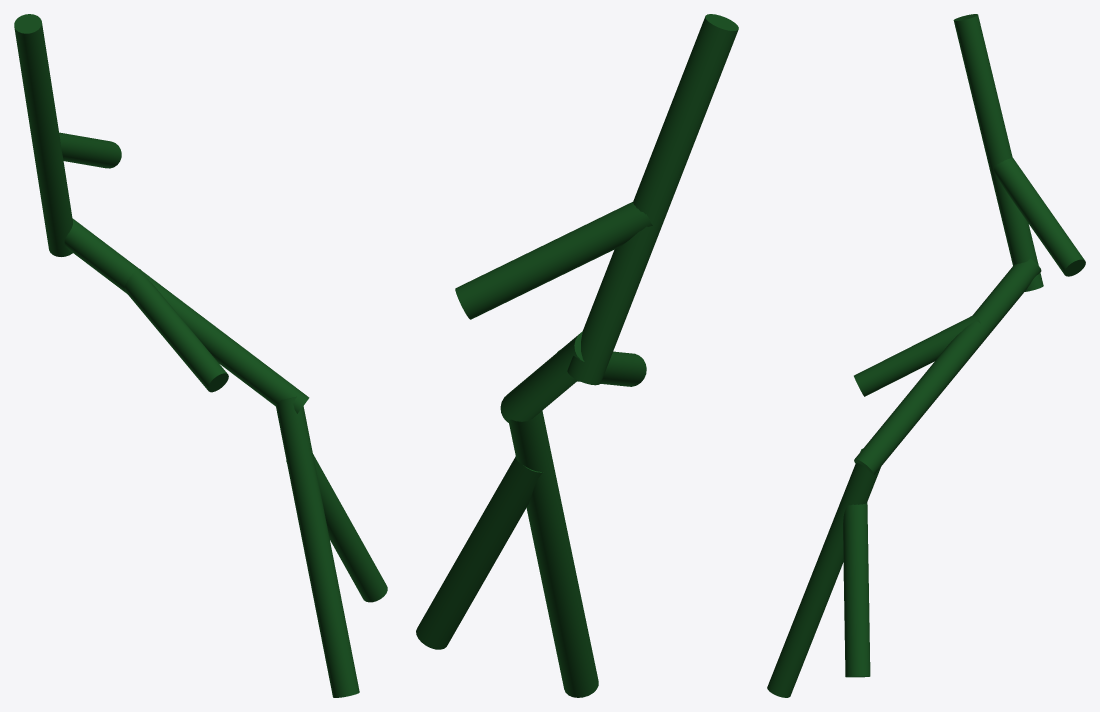
The model's file is VinesAngle1.fbx.
3 views of the same model, side by side, from view 1: azimuth 30°, elevation 25°; view 2: azimuth 150°, elevation 25°; view 3: azimuth 270°, elevation 25° (orthographic). The views are drawn at different scales.
Visible parts, largest first — view 1: vine3, vine1, vine2, vine5, vine6, vine4; view 2: vine1, vine3, vine6, vine4, vine2, vine5; view 3: vine2, vine1, vine3, vine6, vine4, vine5.
Boxes of the visible parts, x1=… form: vine3: x1=276, y1=396, x2=359, y2=697; vine1: x1=14, y1=14, x2=72, y2=256; vine2: x1=64, y1=218, x2=309, y2=413; vine5: x1=124, y1=268, x2=228, y2=392; vine6: x1=286, y1=454, x2=387, y2=602; vine4: x1=59, y1=132, x2=121, y2=168; vine1: x1=567, y1=14, x2=738, y2=385; vine3: x1=509, y1=410, x2=598, y2=697; vine6: x1=416, y1=456, x2=543, y2=649; vine4: x1=455, y1=202, x2=652, y2=319; vine2: x1=500, y1=331, x2=584, y2=422; vine5: x1=557, y1=349, x2=646, y2=386; vine2: x1=854, y1=258, x2=1041, y2=475; vine1: x1=953, y1=14, x2=1043, y2=291; vine3: x1=767, y1=448, x2=880, y2=697; vine6: x1=843, y1=502, x2=870, y2=677; vine4: x1=994, y1=157, x2=1085, y2=276; vine5: x1=854, y1=315, x2=980, y2=396.
Bounding box in the file's own units: 2.88 × 5.83 × 2.87.
